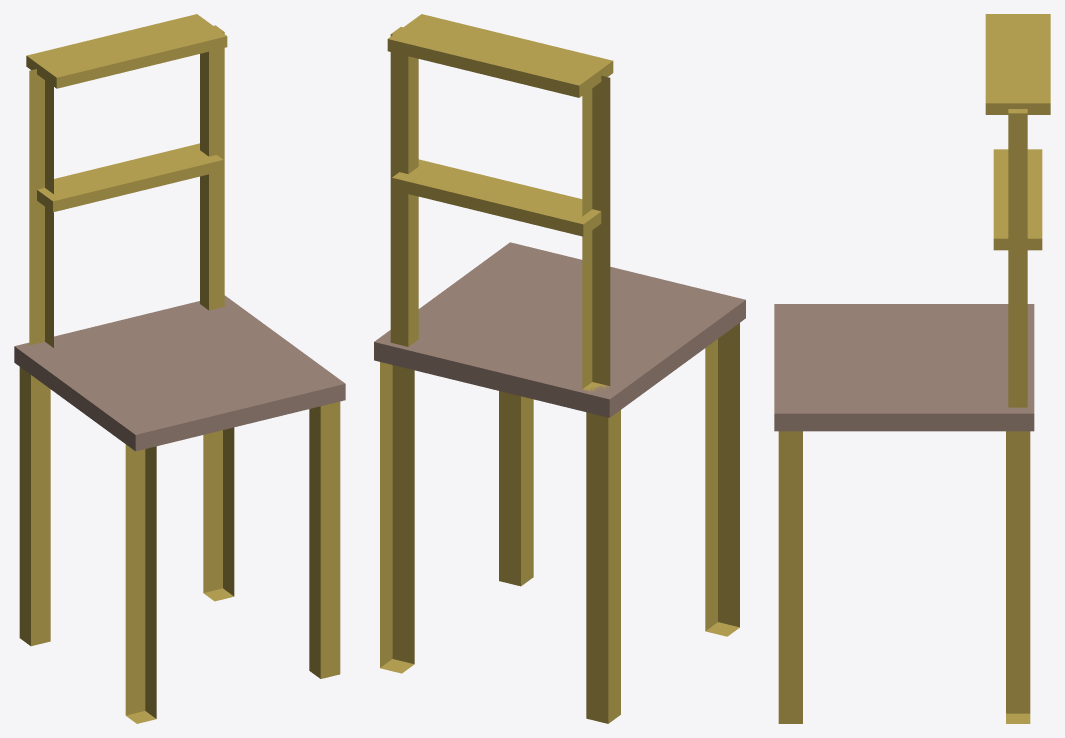
Rendered from chair.glb.
3 views of the same model, side by side, from view 1: azimuth 30°, elevation 25°; view 2: azimuth 150°, elevation 25°; view 3: azimuth 270°, elevation 25° (orthographic). The views are drawn at different scales.
Parts seen in each view (by area): view 1: legs, seat, backrest, top-slat, mid-slat; view 2: legs, seat, backrest, top-slat, mid-slat; view 3: seat, legs, top-slat, backrest, mid-slat.
Boxes of the visible parts, box(x1,y1,x2,y2) form: legs: box(19, 367, 340, 723); seat: box(14, 295, 345, 451); backrest: box(29, 25, 224, 347); top-slat: box(26, 14, 227, 88); mid-slat: box(37, 143, 223, 212); legs: box(380, 323, 739, 723); seat: box(374, 242, 745, 417); backrest: box(390, 27, 610, 391); top-slat: box(387, 14, 613, 97); mid-slat: box(392, 159, 601, 236); seat: box(774, 304, 1034, 431); legs: box(778, 431, 1030, 723); top-slat: box(985, 14, 1050, 114); backrest: box(1008, 109, 1027, 407); mid-slat: box(993, 149, 1042, 250).
Size of the model in its own units: 1.6 by 4.16 by 1.7.
